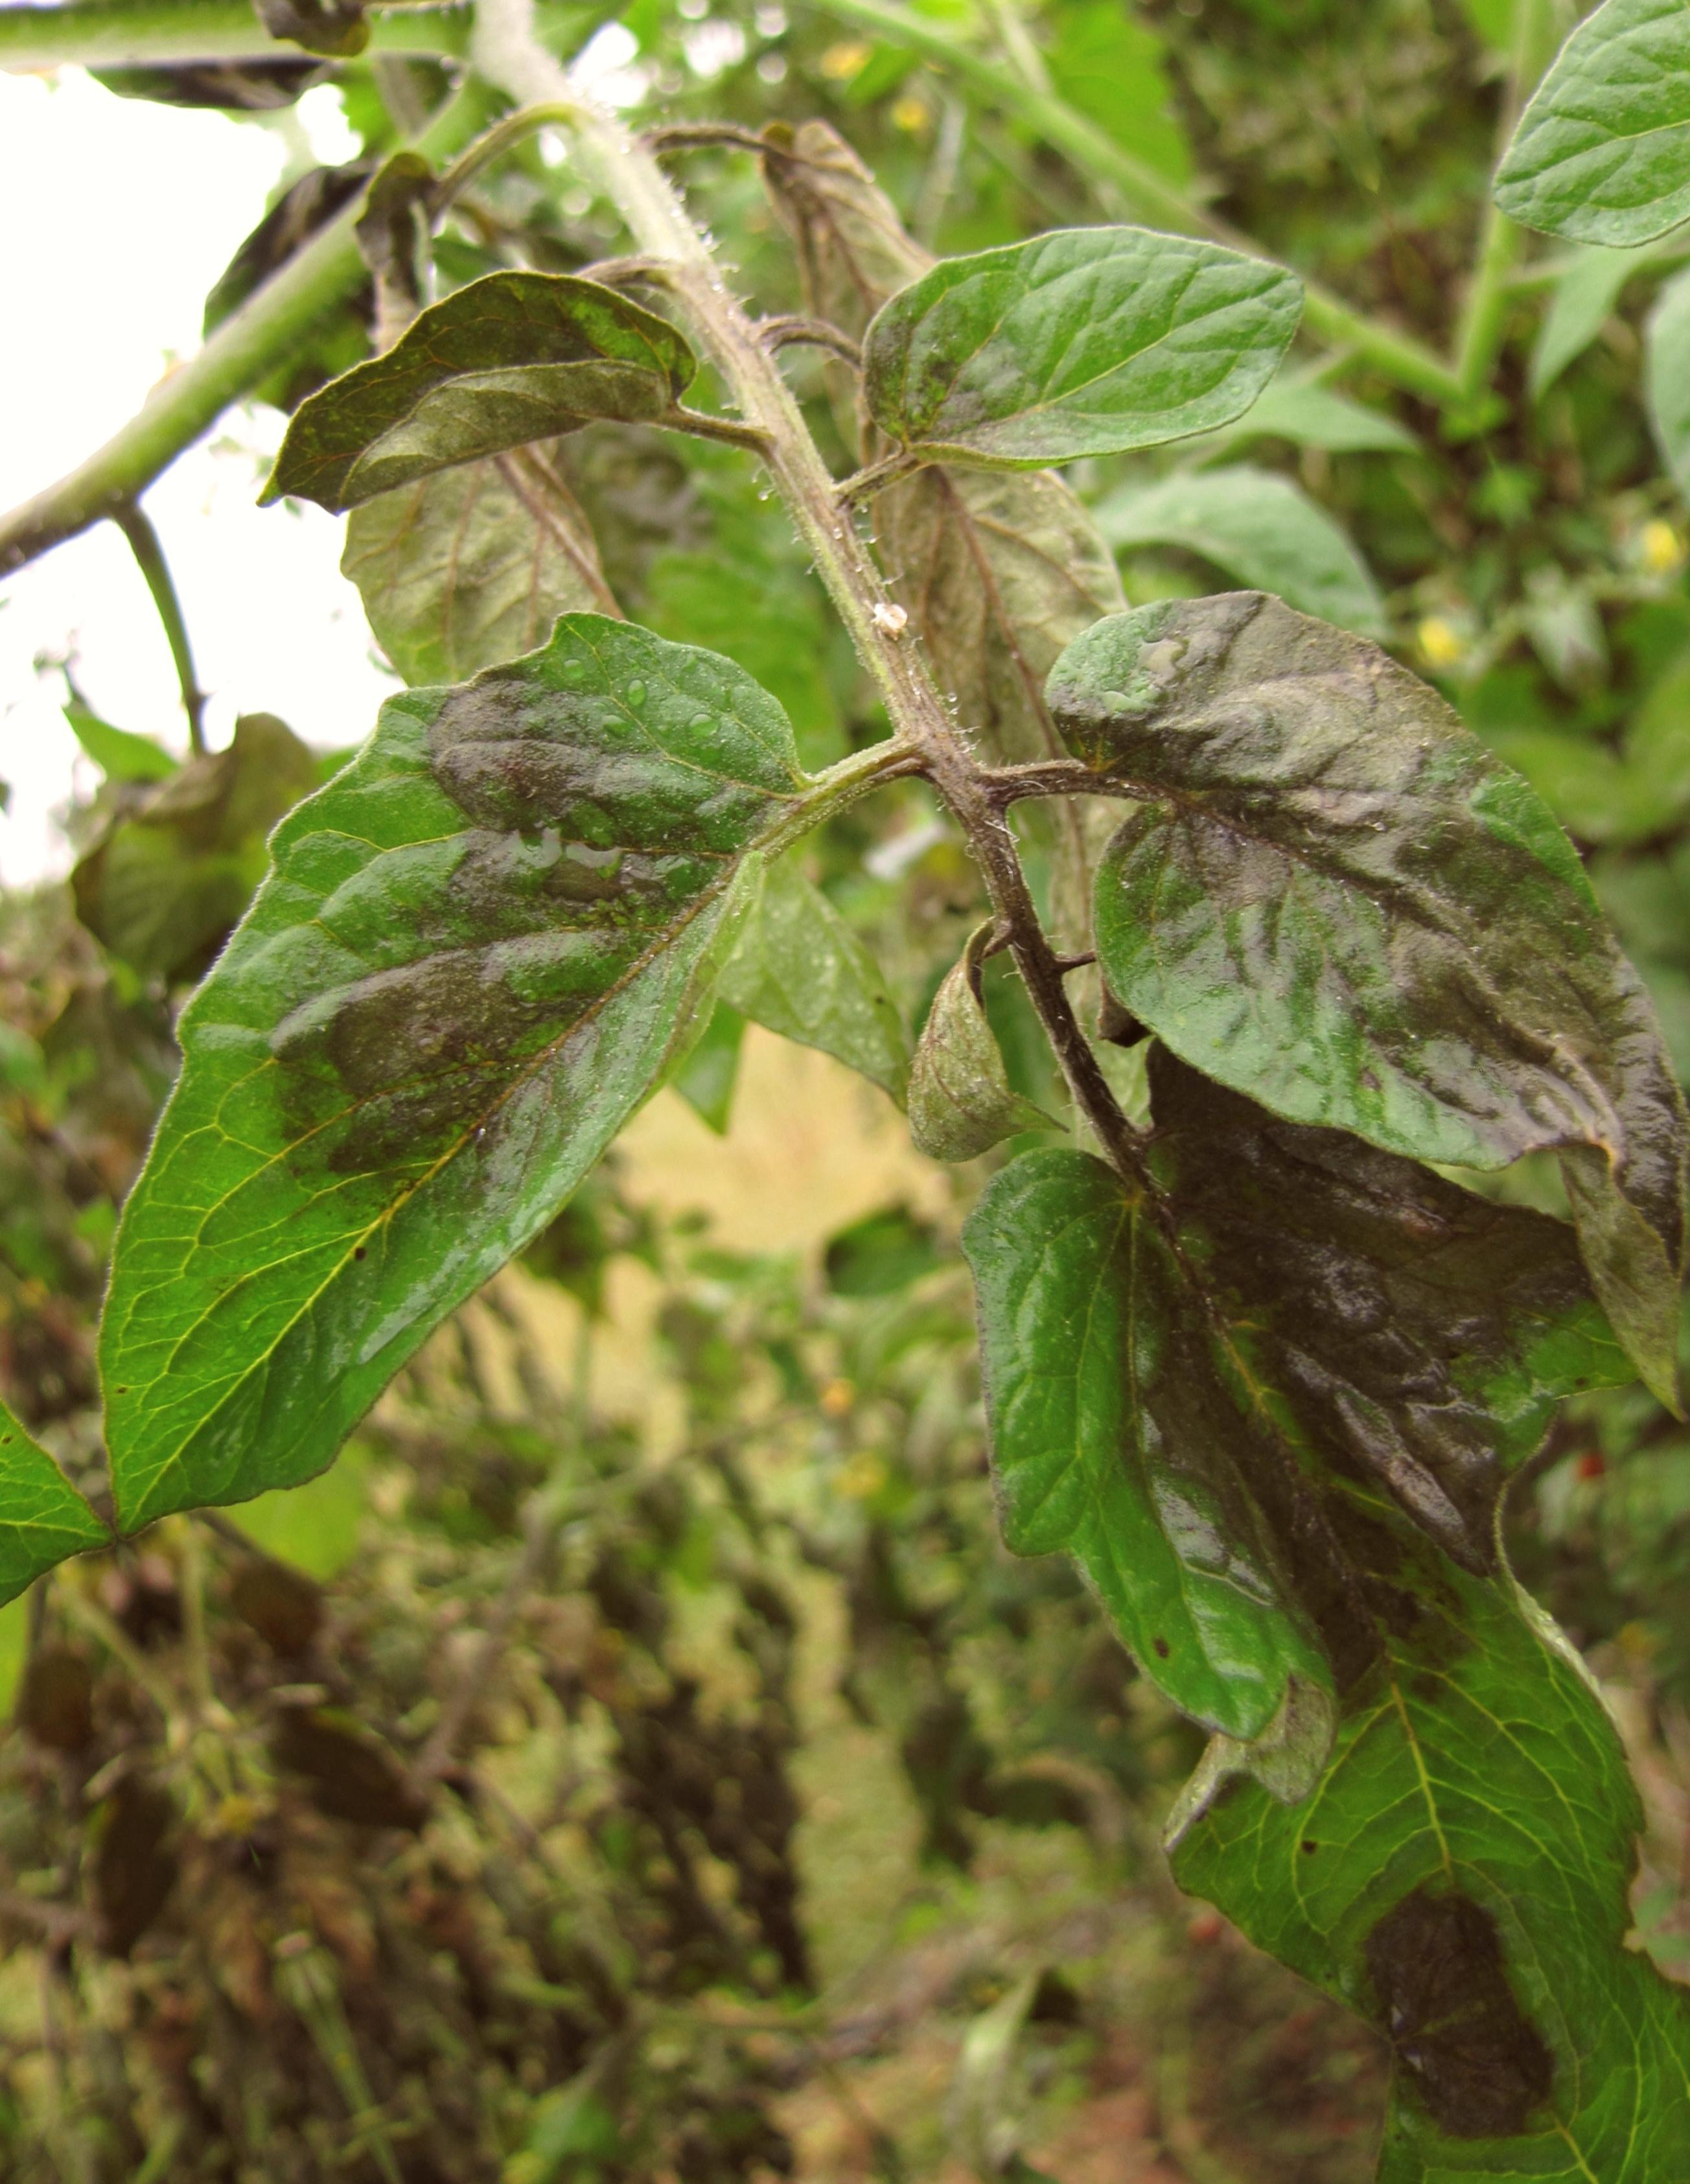Tomato leaf late blight: (0, 535, 1000, 1571), (825, 947, 1690, 2117), (959, 464, 1690, 1525)
